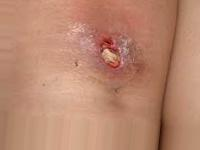Spider: (65, 22, 151, 90)
